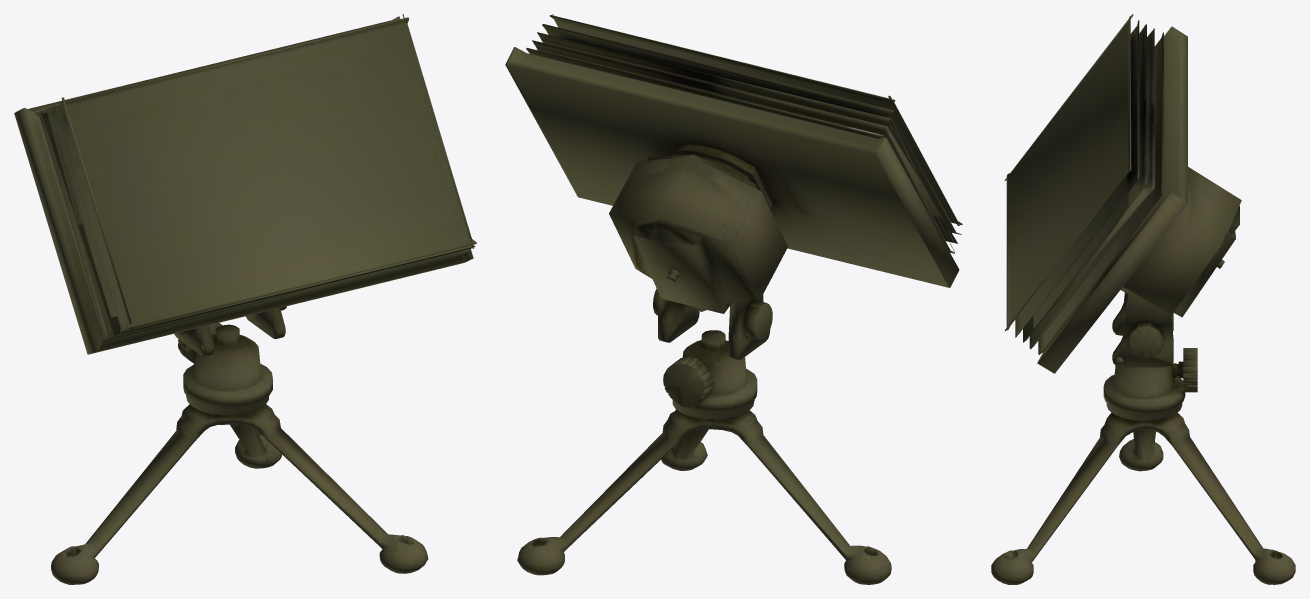
Rendered from radar.glb.
The picture shows the model from 3 angles, left to right: view 1: azimuth 30°, elevation 25°; view 2: azimuth 150°, elevation 25°; view 3: azimuth 270°, elevation 25°; orthographic projection. The views are drawn at different scales.
Parts seen in each view (by area): view 1: body; view 2: body; view 3: body.
Boxes of the visible parts, box(x1,y1,x2,y2) form: body: box(14, 14, 476, 584); body: box(505, 14, 962, 584); body: box(991, 14, 1295, 584).
Bounding box in the file's own units: 2.01 × 2.5 × 1.55.
1 material, 1 textured.
